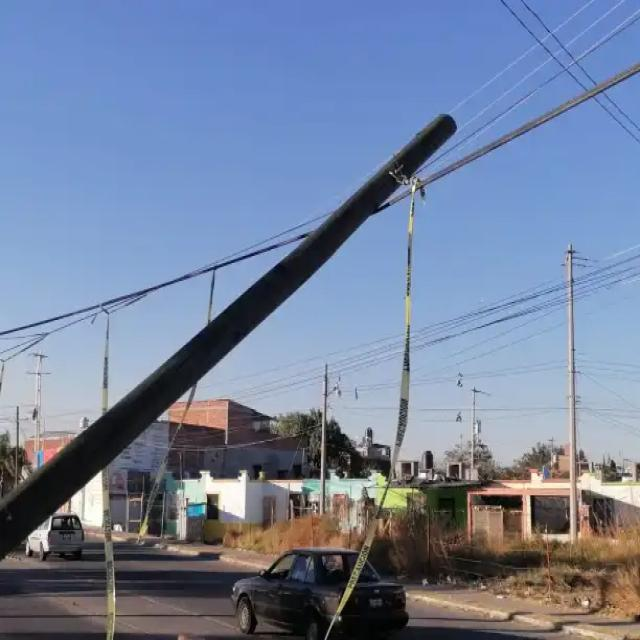Inclined Pole: (0, 112, 461, 565)
